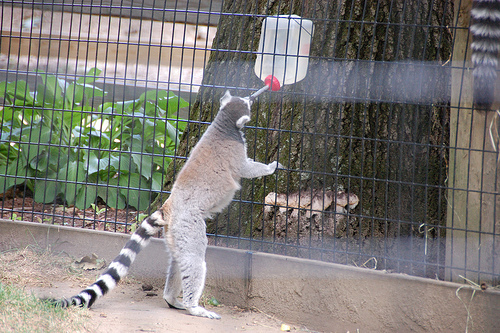cat: (37, 88, 288, 321)
